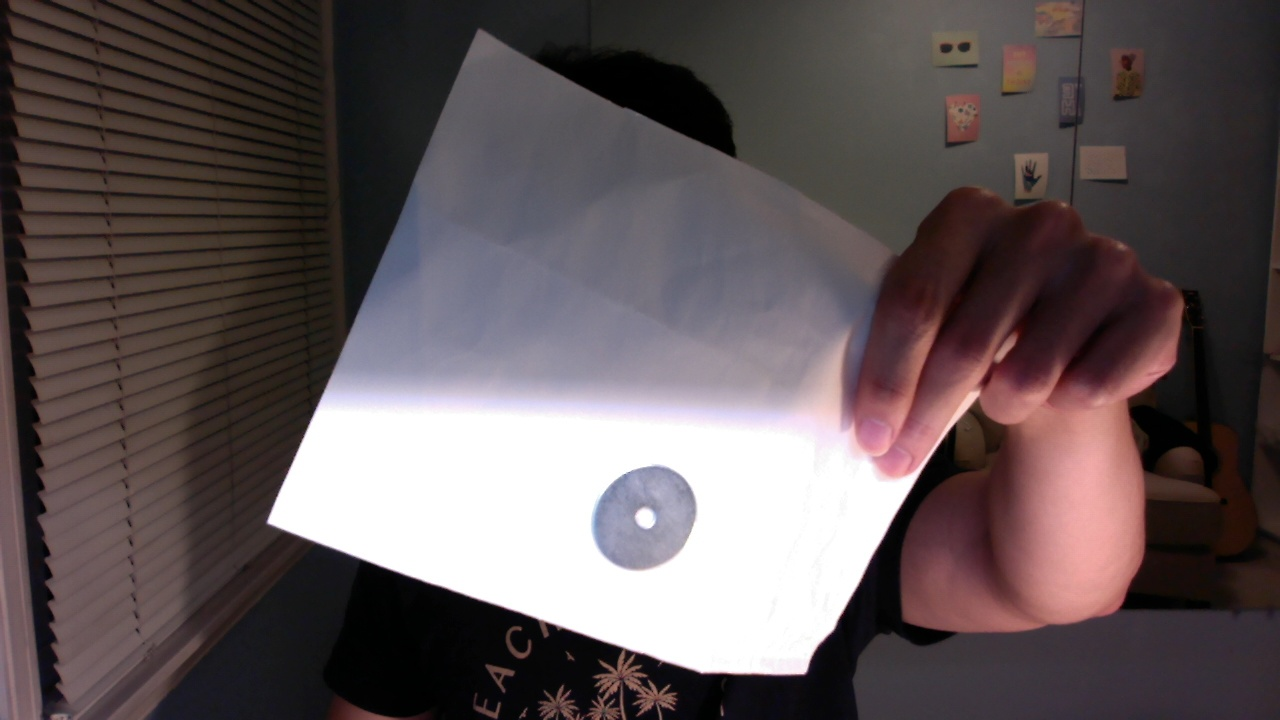NonDetectiveWashers: (590, 465, 696, 571)
